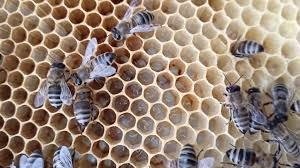worker-bee: (71, 51, 121, 87), (111, 6, 157, 43), (226, 78, 254, 137), (43, 57, 69, 110), (75, 84, 93, 132), (271, 82, 291, 122)
